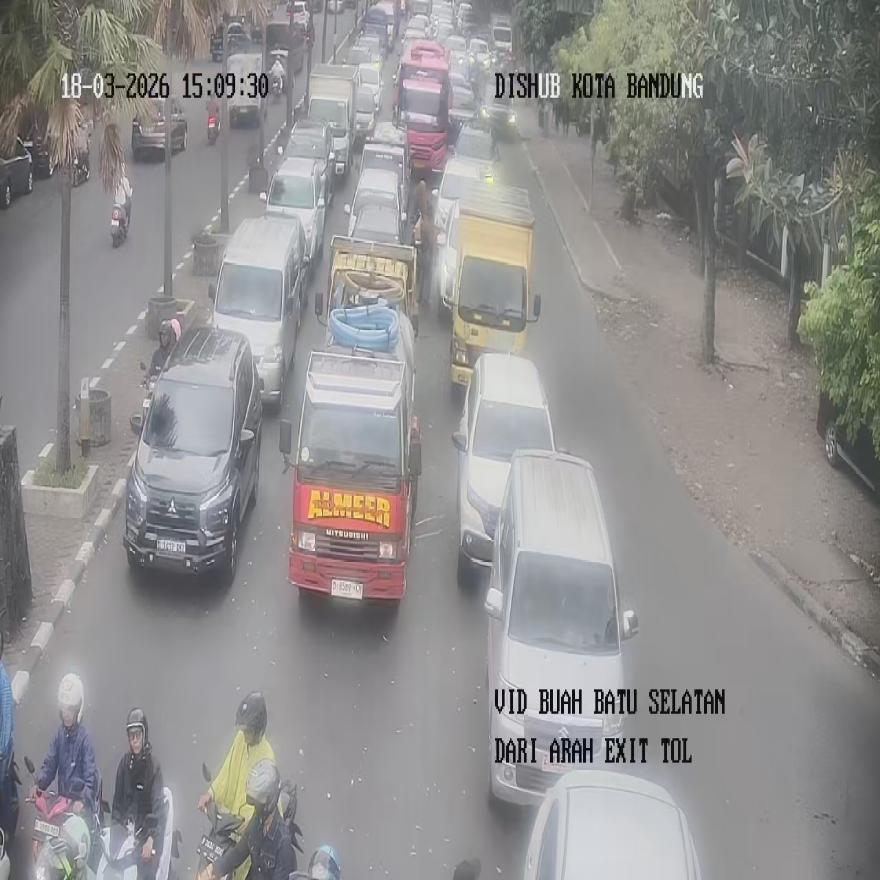Mobil: (483, 449, 638, 804), (124, 328, 261, 584), (452, 353, 556, 576), (522, 768, 701, 878), (208, 215, 304, 411)
Motor: (195, 761, 300, 880), (24, 755, 105, 880), (95, 786, 181, 880), (195, 764, 244, 880), (110, 188, 131, 248), (206, 99, 220, 144)
Truk berat: (278, 314, 423, 600)
Truk ringan: (446, 182, 541, 392)
